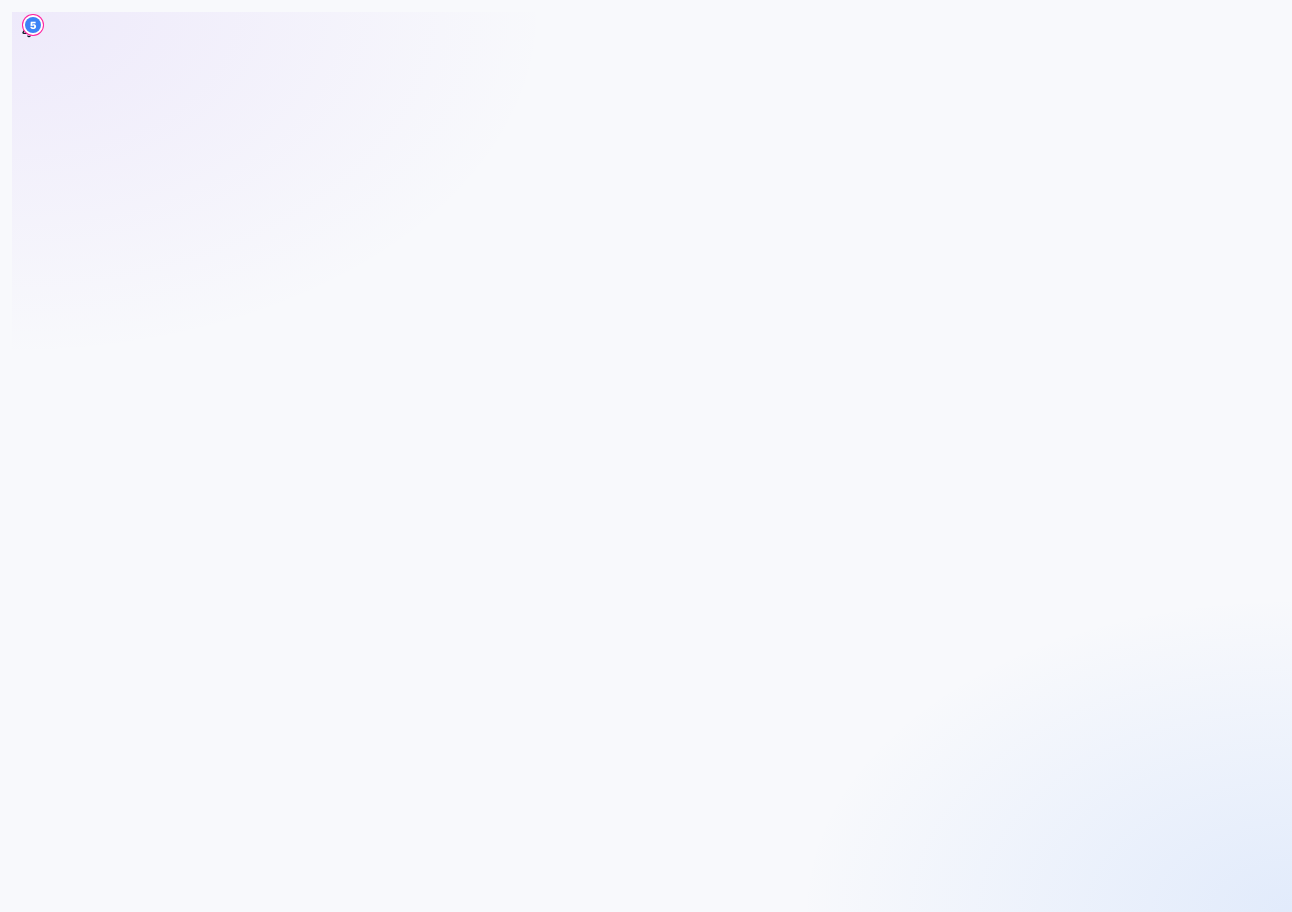
Test case: notification bell acknowledgement › keeps the badge cleared immediately while server requests are still pending
Later steps or results of the test are not shown.
Click the button with test id "button-notifications" at point(29, 30), box x1=12 y1=12 x2=46 y2=48
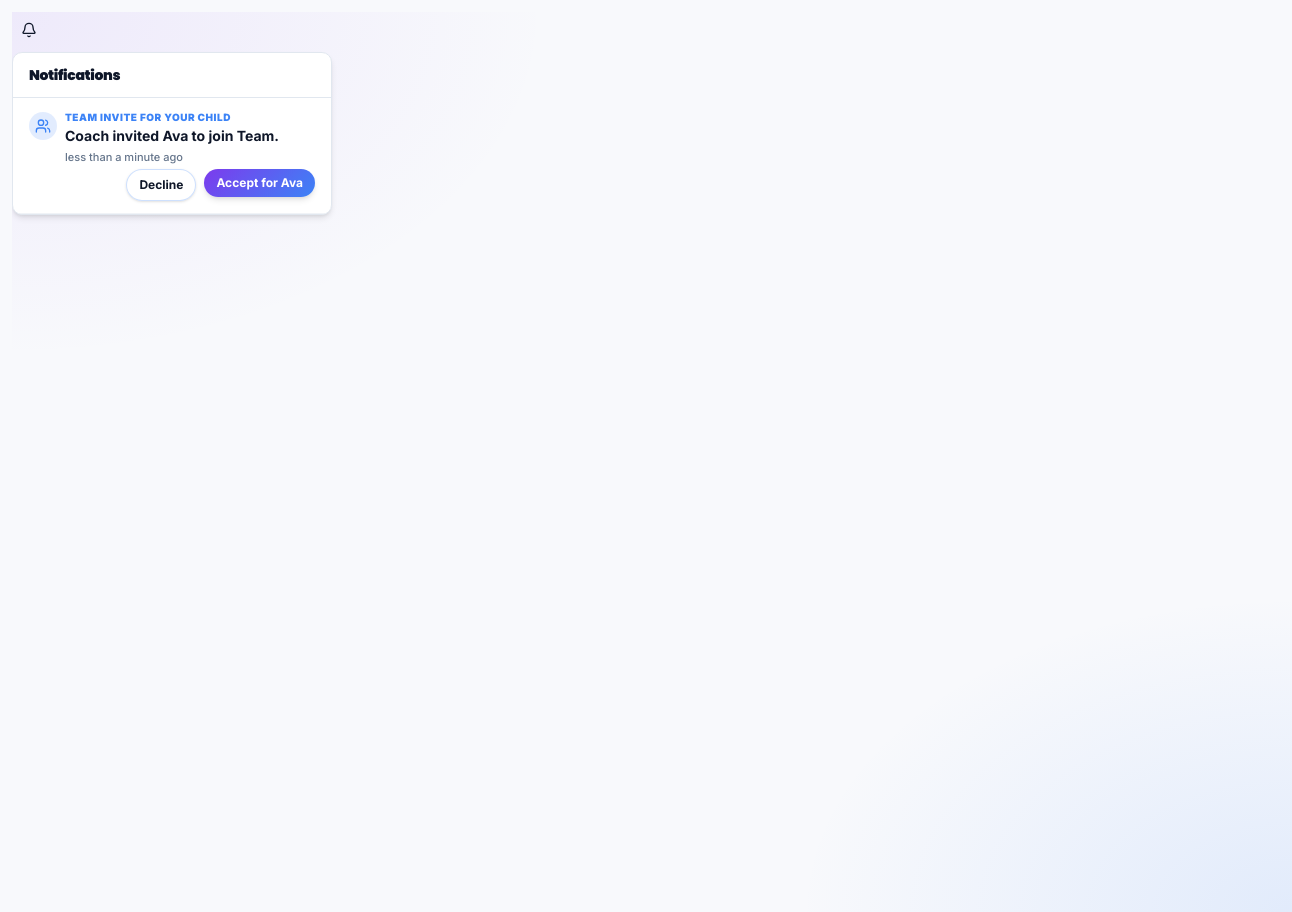
Result: the element with test id "badge-bell-unread" is gone
